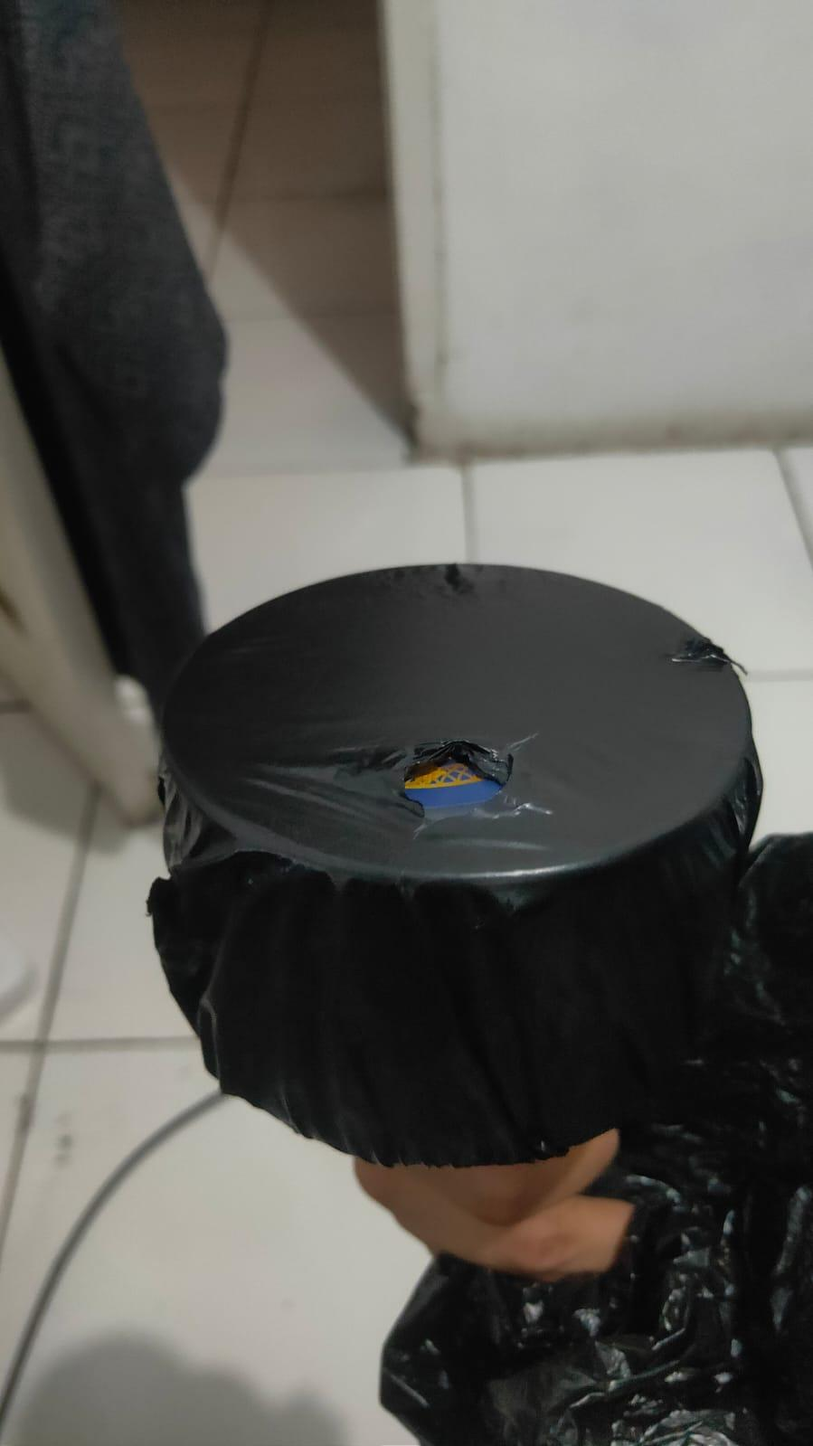damaged package: (380, 727, 535, 829), (671, 632, 740, 672)
undamaged: (128, 546, 765, 1184)
